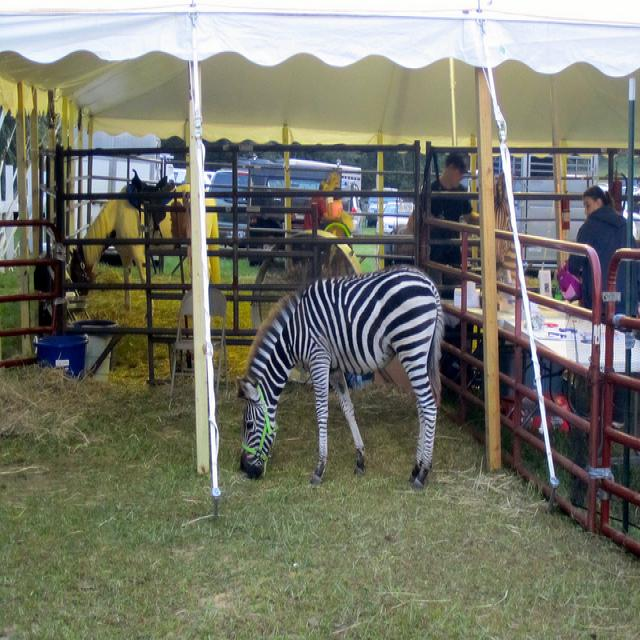Vehicle: (248, 165, 362, 264), (208, 170, 250, 244), (208, 170, 248, 246), (365, 187, 404, 228), (376, 202, 413, 235), (351, 197, 364, 235)
